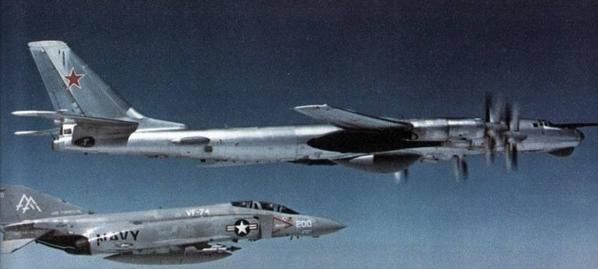Aeronef_militaire: (7, 31, 598, 198), (1, 175, 354, 269)
